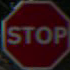Stop: (2, 1, 66, 63)
